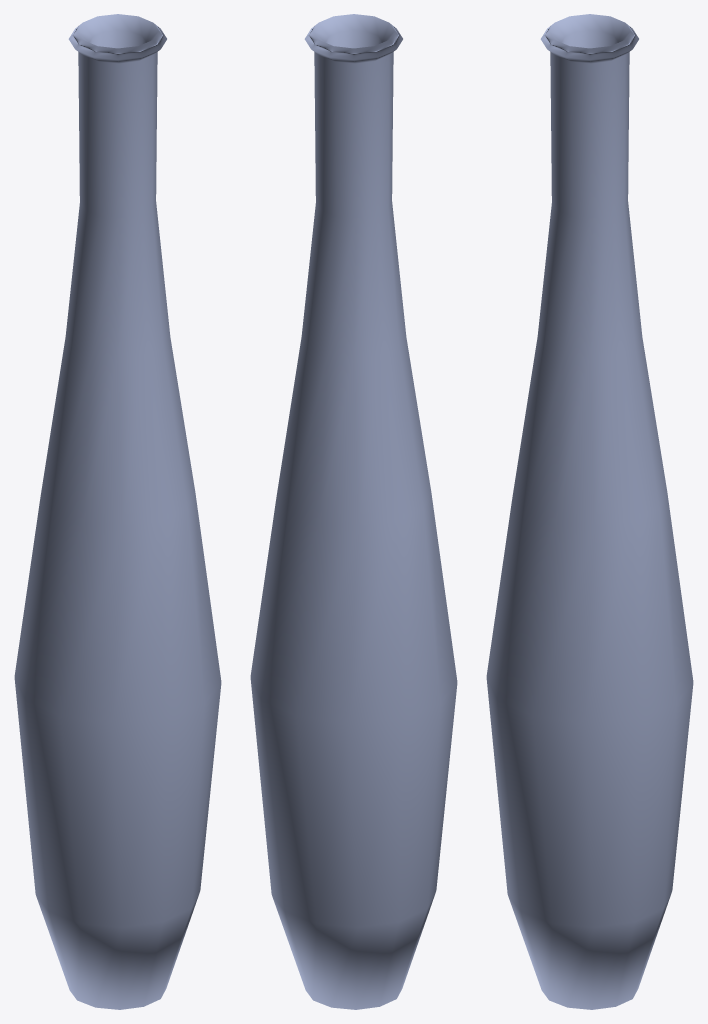
The model's file is Vase5.fbx.
3 views of the same model, side by side, from view 1: azimuth 30°, elevation 25°; view 2: azimuth 150°, elevation 25°; view 3: azimuth 270°, elevation 25° (orthographic).
Visible parts, largest first — view 1: vase.161_vase.1389; view 2: vase.161_vase.1389; view 3: vase.161_vase.1389.
Part boxes in pixels (x1,y1,x2,y2): vase.161_vase.1389: (14, 14, 221, 1009); vase.161_vase.1389: (250, 14, 457, 1009); vase.161_vase.1389: (486, 14, 693, 1009).
Size of the model in its own units: 1.45 by 7.44 by 1.45.
